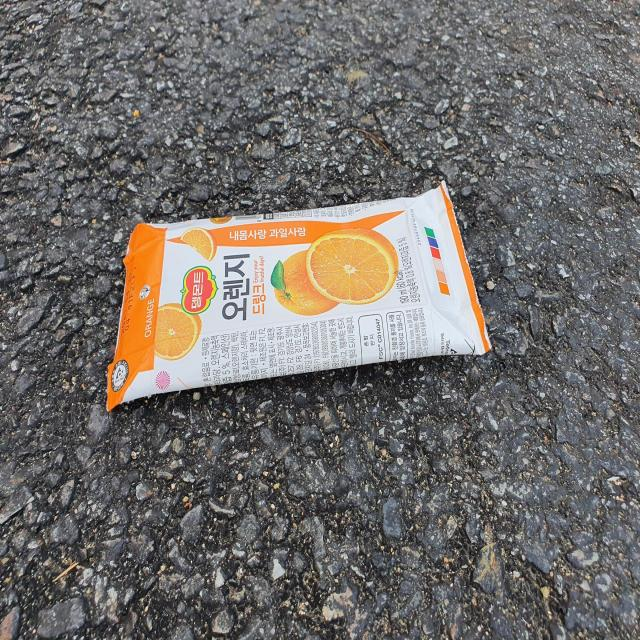paperpack: (106, 182, 492, 411)
